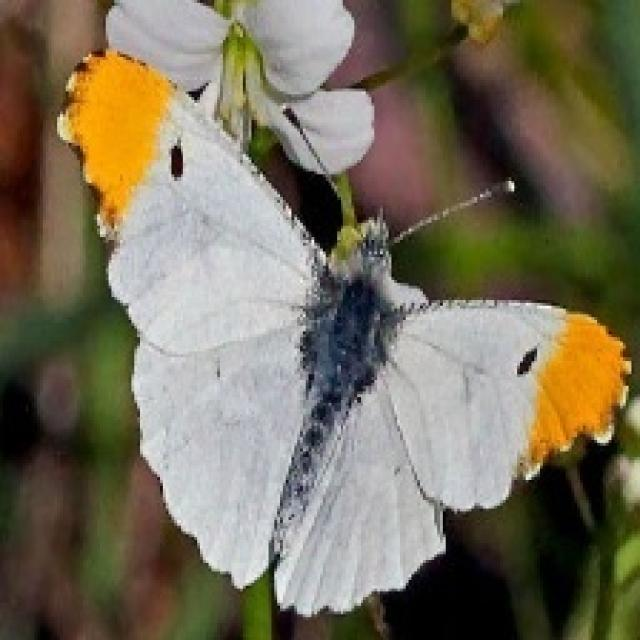butterfly: (51, 43, 632, 617)
